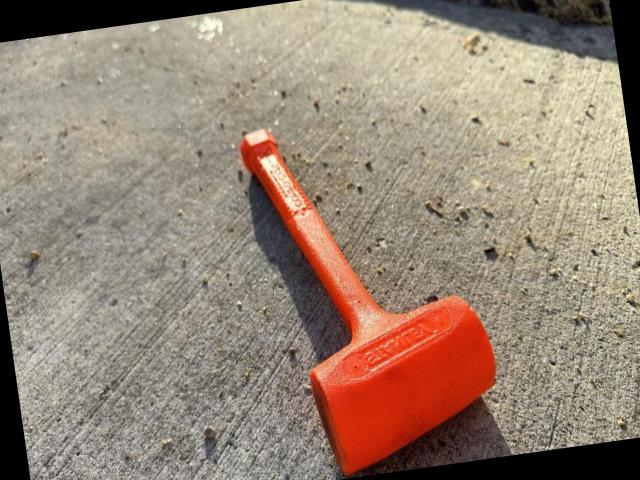hammer: (236, 99, 509, 480)
